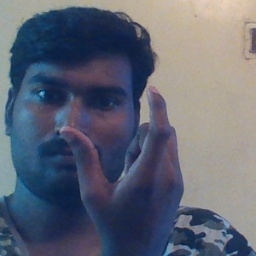U: (54, 78, 193, 240)
